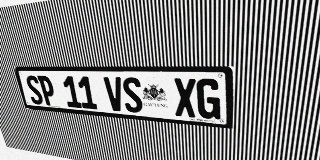1: (76, 76, 97, 109), (61, 76, 82, 108)
G: (196, 78, 221, 120)
P: (37, 75, 57, 106)
S: (121, 77, 144, 113), (24, 75, 44, 105)
V: (103, 77, 125, 112)
X: (173, 78, 197, 118)
